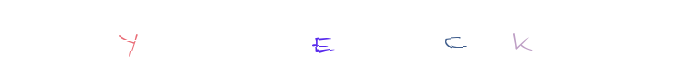0: (326, 0, 406, 80)
3: (280, 0, 360, 80), (281, 0, 361, 80)
C: (413, 0, 493, 80)
E: (307, 0, 387, 80)
K: (428, 0, 508, 80)
Y: (89, 0, 169, 80)
